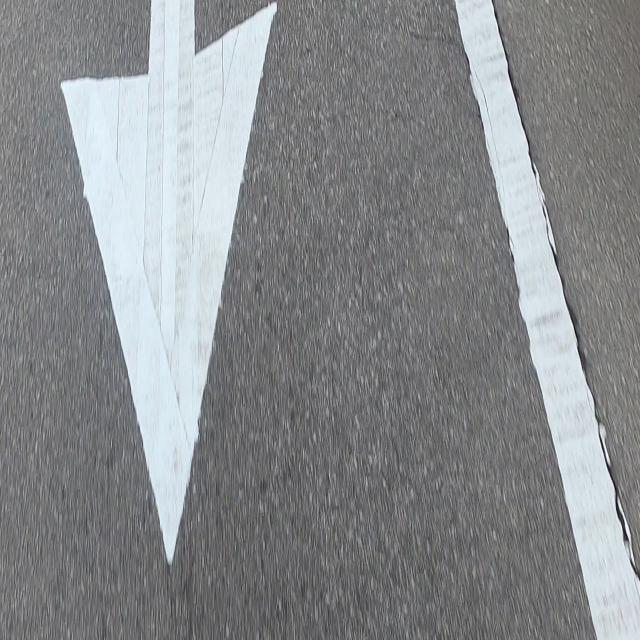Retak-Memanjang: (489, 0, 640, 584)
